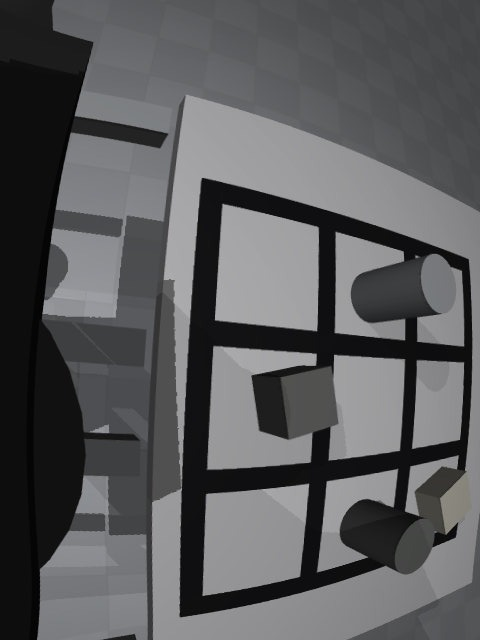can: (351, 254, 456, 323)
cube: (251, 366, 339, 440)
cylinder: (340, 499, 435, 575)
foam: (414, 466, 472, 535)
